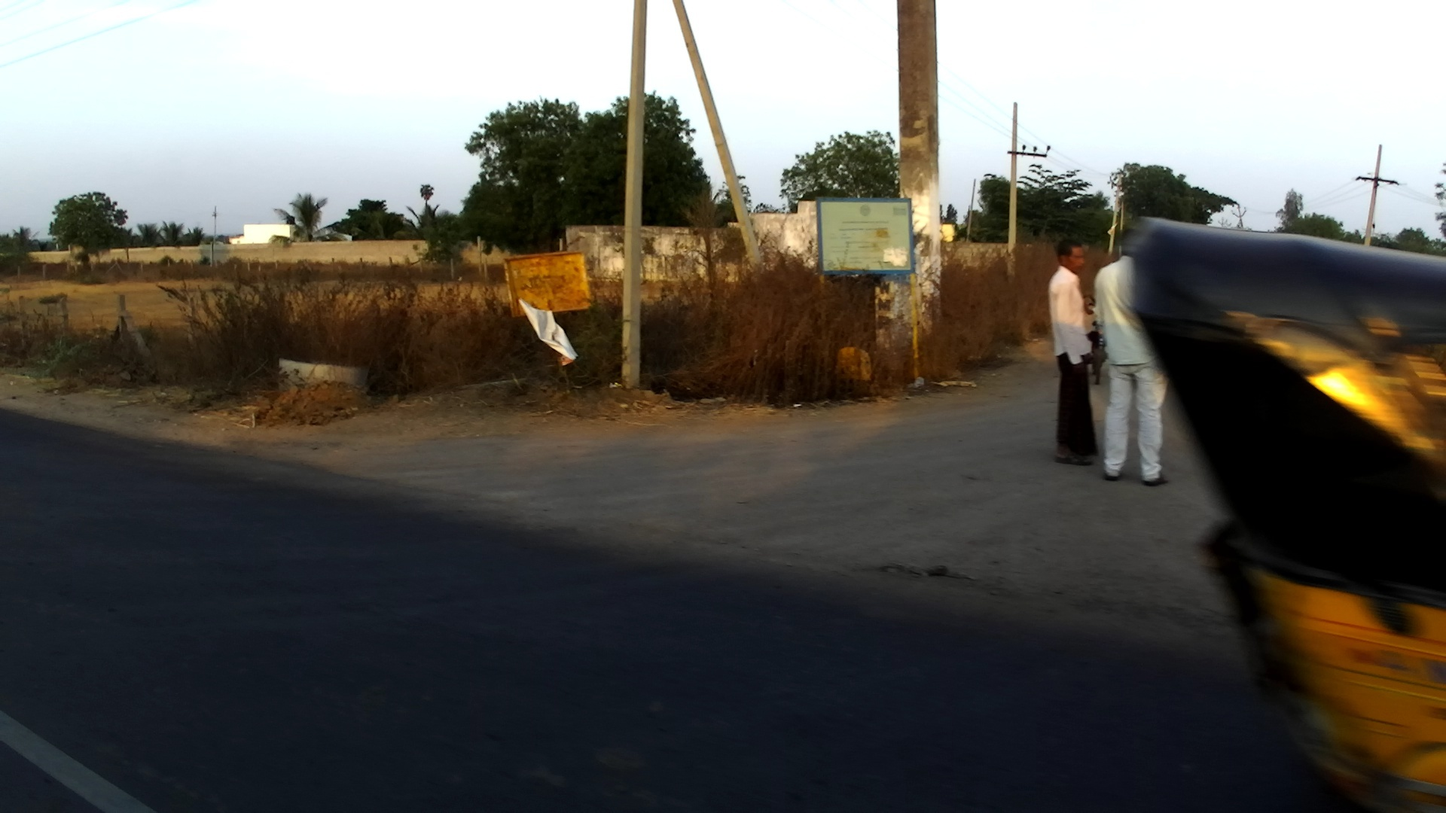autorickshaw: (1131, 218, 1446, 813)
bicycle: (1083, 294, 1113, 390)
person: (1091, 228, 1174, 490), (1048, 240, 1103, 470)
